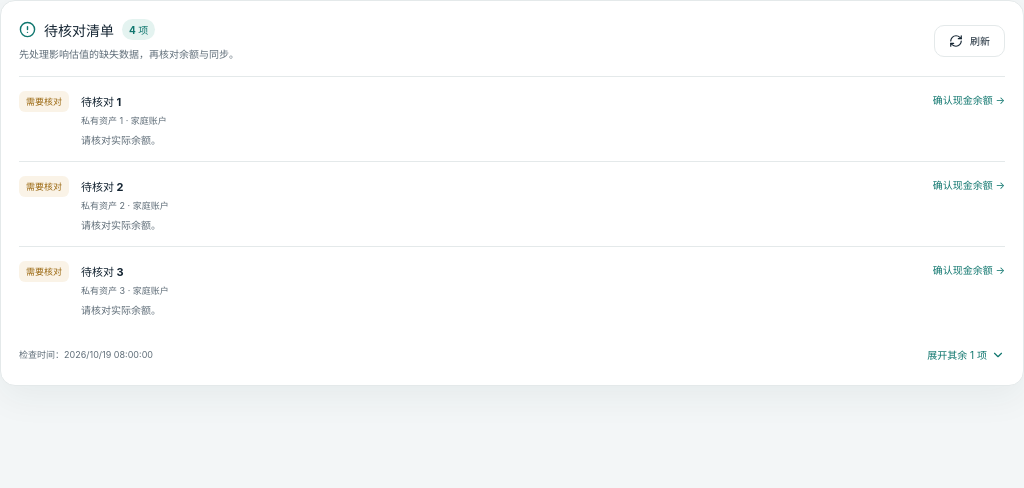
it: attention panel › keeps the list compact and expands the remaining prioritized issues
The width and height of the screenshot is (1024, 488).
Expected: the text "待核对 4" is not shown
Click the button "展开其余 1 项" at (966, 354), box [927,342,1005,367]
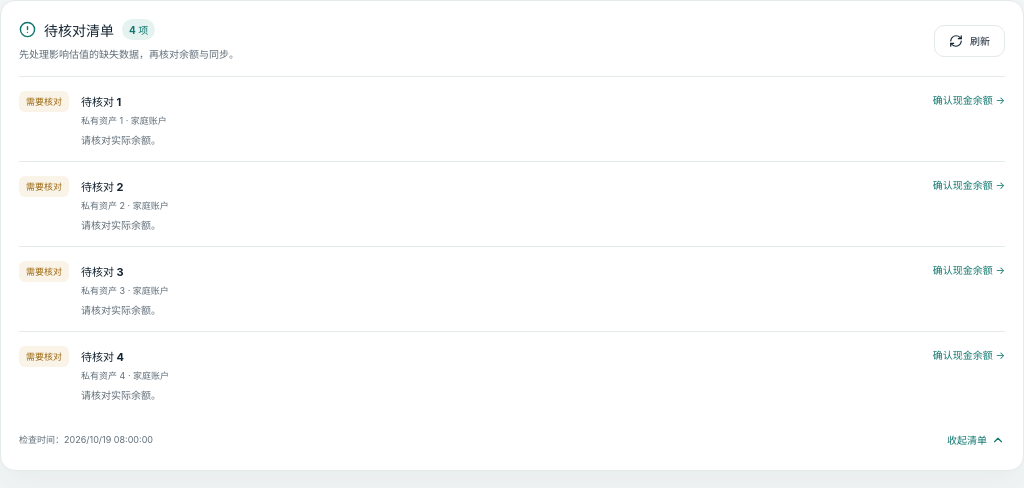
Expected: the text "待核对 4" is shown, [81,350,124,364]
Expected: the button "收起清单" is expanded
Click the button "收起清单" at (976, 440), box [947,427,1005,452]
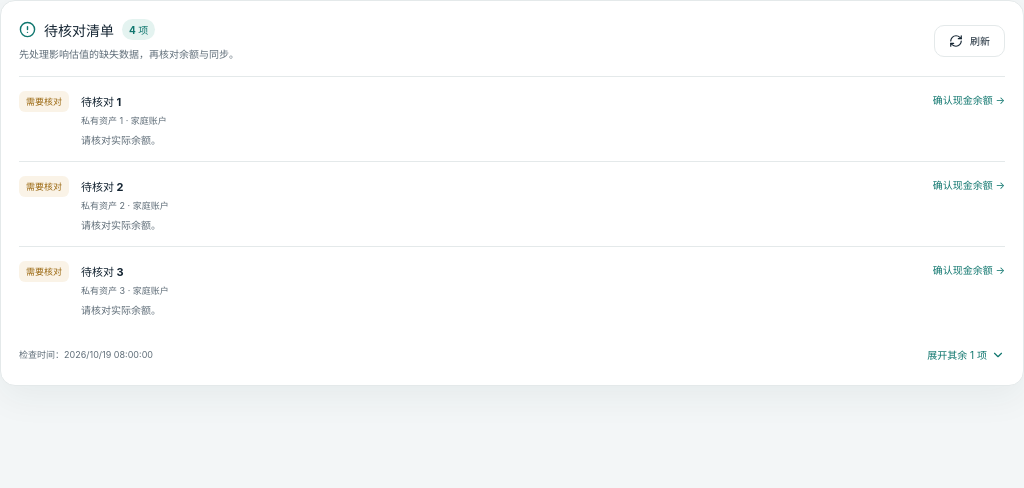
Expected: the text "待核对 4" is gone
